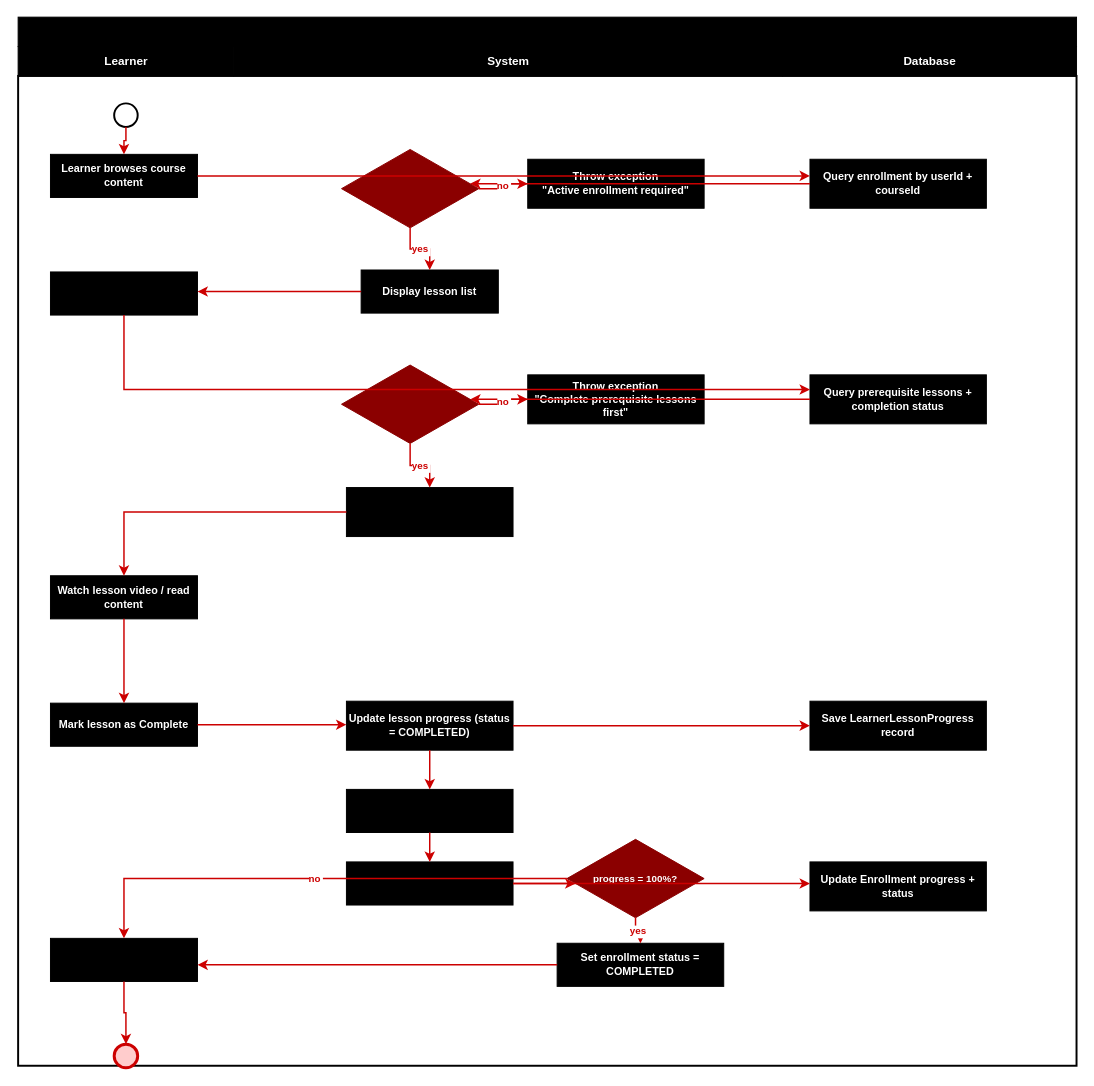
Image size: 1094x1086. Some labels were removed from this diagram. The shapes that lost their labels are listed below. From the top down, each one's centre as x and y in pixels, then its label:
point 547,31: Lesson Learning flow
point 410,188: Enrolled in course?
point 123,293: Click on a lesson
point 410,403: Prerequisites completed?
point 429,512: Create / return lesson progress (status = ACTIVE)
point 429,810: Update learner streak
point 429,883: Recalculate enrollment progress (%)
point 123,959: Course completed
